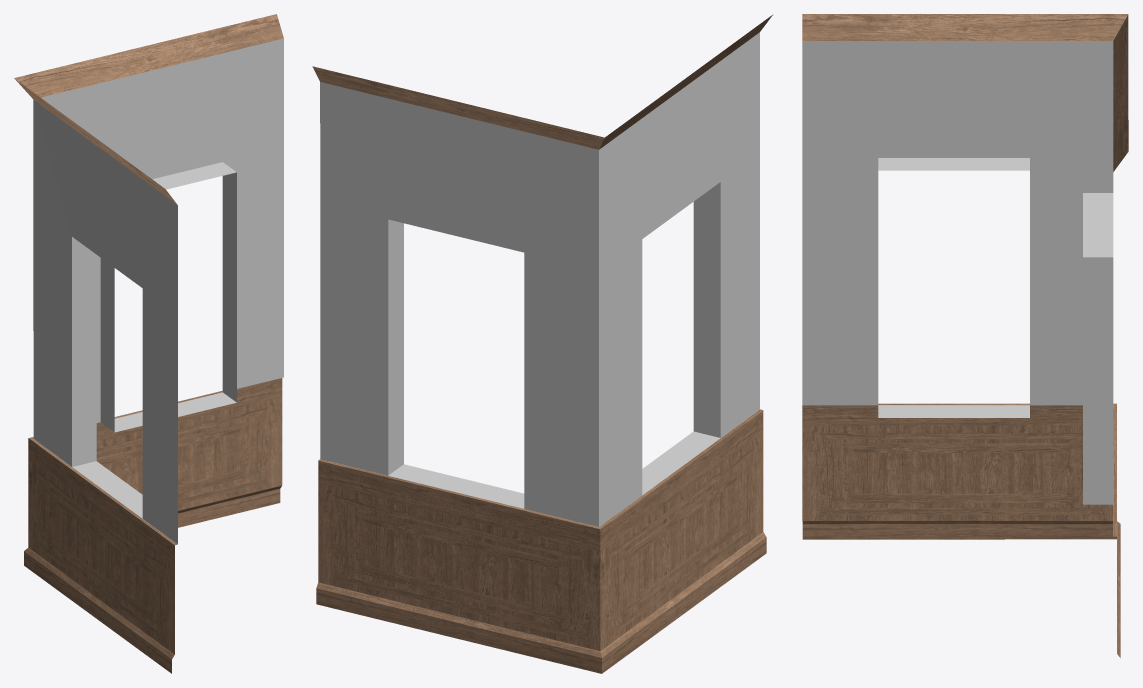
Rendered from WallIntWindowCorneroutside2A.fbx.
3 renders of one model, left to right at view 1: azimuth 30°, elevation 25°; view 2: azimuth 150°, elevation 25°; view 3: azimuth 270°, elevation 25°, orthographic. The views are drawn at different scales.
Visible parts, largest first — view 1: WallIntWindowCorneroutside2A; view 2: WallIntWindowCorneroutside2A; view 3: WallIntWindowCorneroutside2A.
Part boxes in pixels (left/top/right/bottom): WallIntWindowCorneroutside2A: left=14, top=14, right=283, bottom=673; WallIntWindowCorneroutside2A: left=312, top=14, right=773, bottom=673; WallIntWindowCorneroutside2A: left=802, top=14, right=1128, bottom=657.
Bounding box in the file's own units: 215 × 380 × 215.
